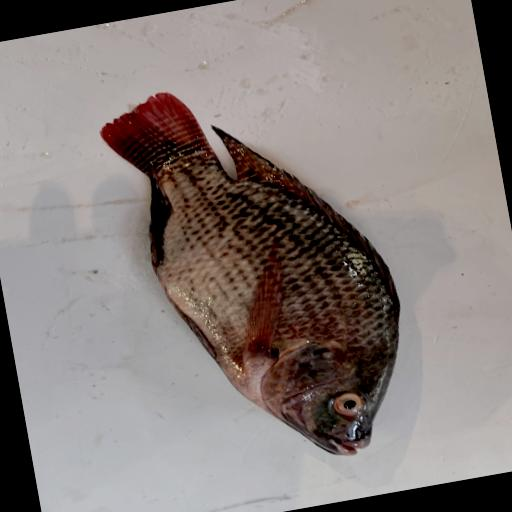Tilapia: (93, 57, 425, 490)
